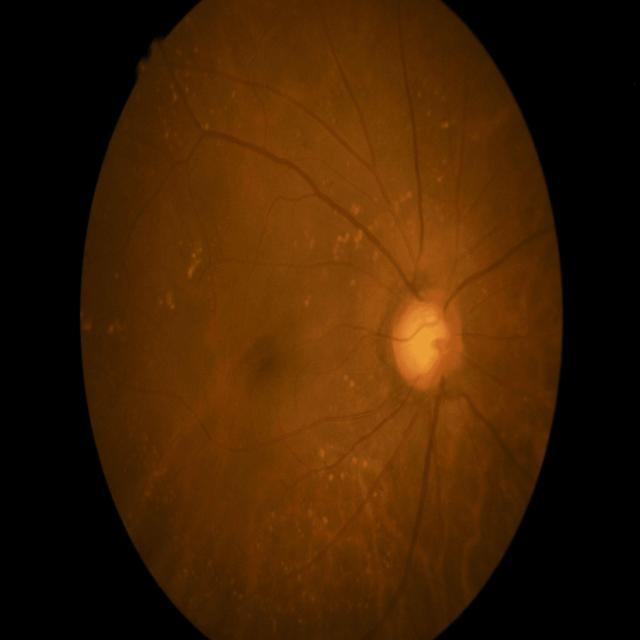cup: (408, 300, 450, 376)
disk: (389, 284, 464, 391)
